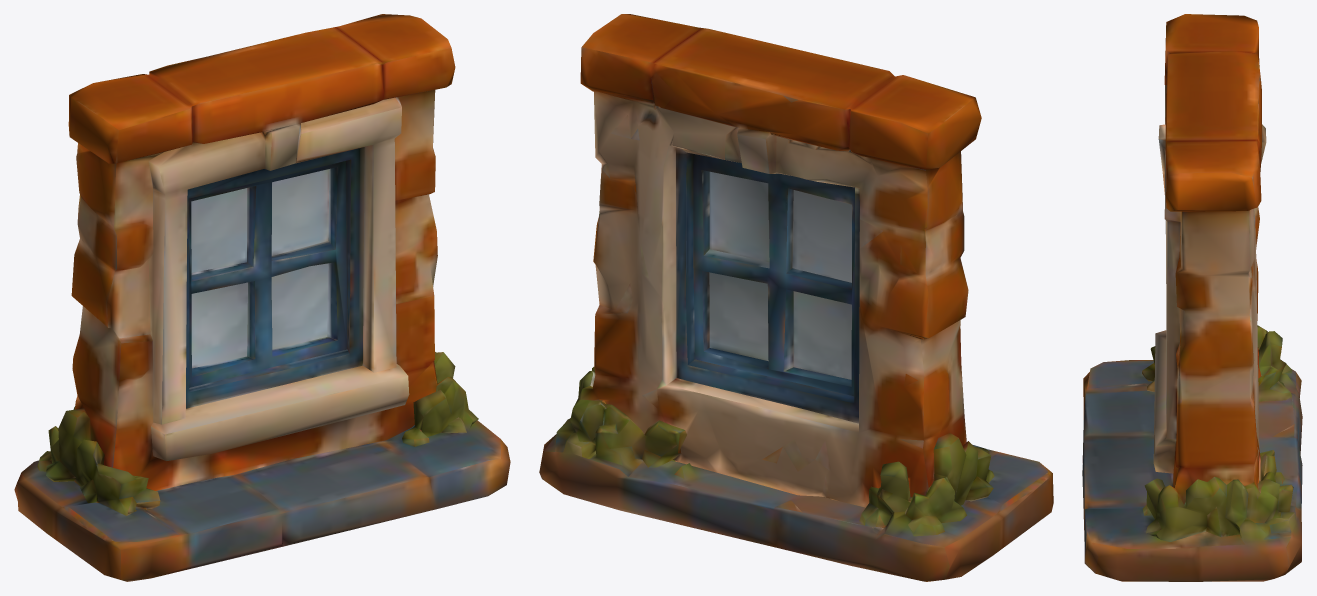
File: mvp-window.lod.glb
3 views of the same model, side by side, from view 1: azimuth 30°, elevation 25°; view 2: azimuth 150°, elevation 25°; view 3: azimuth 270°, elevation 25° (orthographic). The views are drawn at different scales.
Parts seen in each view (by area): view 1: textured_mesh.obj; view 2: textured_mesh.obj; view 3: textured_mesh.obj.
Boxes of the visible parts, left/top/right/bottom form: textured_mesh.obj: left=14, top=14, right=510, bottom=581; textured_mesh.obj: left=539, top=14, right=1053, bottom=581; textured_mesh.obj: left=1082, top=14, right=1302, bottom=581.
Size of the model in its own units: 1 by 0.9955 by 0.4927.
1 material, 1 textured.
